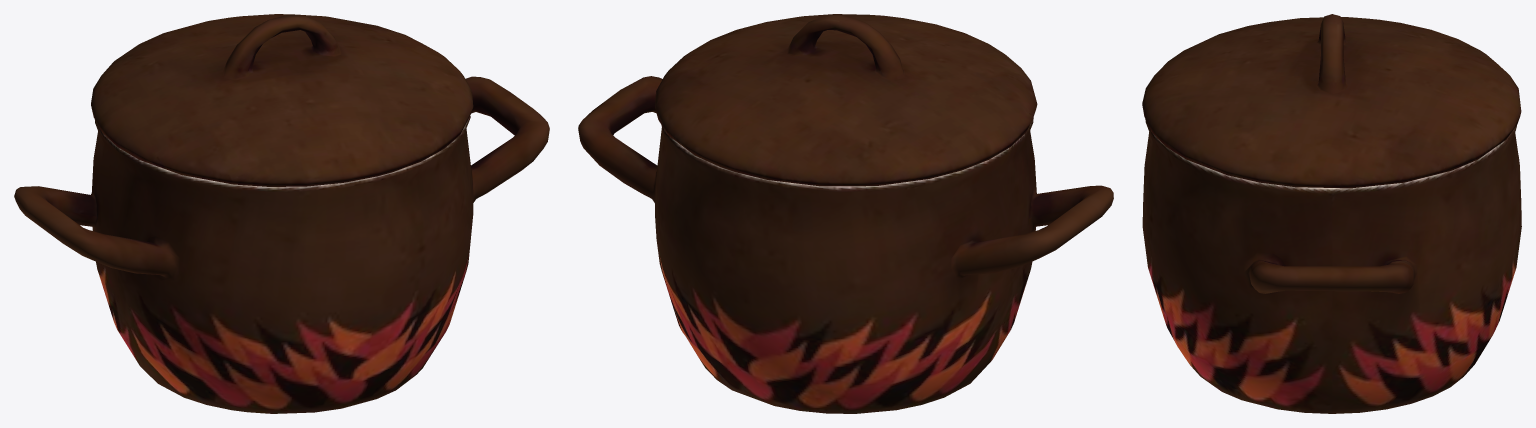
The model's file is olla.glb.
3 renders of one model, left to right at view 1: azimuth 30°, elevation 25°; view 2: azimuth 150°, elevation 25°; view 3: azimuth 270°, elevation 25°, orthographic.
Parts seen in each view (by area): view 1: pot_enamel_01_lid; view 2: pot_enamel_01_lid; view 3: pot_enamel_01_lid.
Part boxes in pixels (x1,y1,x2,y2): pot_enamel_01_lid: (14, 14, 549, 413); pot_enamel_01_lid: (578, 14, 1113, 413); pot_enamel_01_lid: (1142, 14, 1521, 413).
Size of the model in its own units: 0.2627 by 0.1778 by 0.1803.
Materials: 1 (1 with a texture image).
